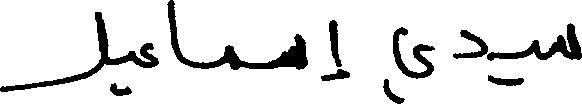X: (0, 7, 107, 96), (394, 22, 434, 103), (555, 18, 581, 64), (454, 25, 484, 63), (281, 29, 306, 74), (167, 0, 181, 67), (329, 15, 341, 85), (141, 38, 157, 72), (224, 40, 240, 74), (126, 46, 134, 99), (531, 35, 537, 62)
